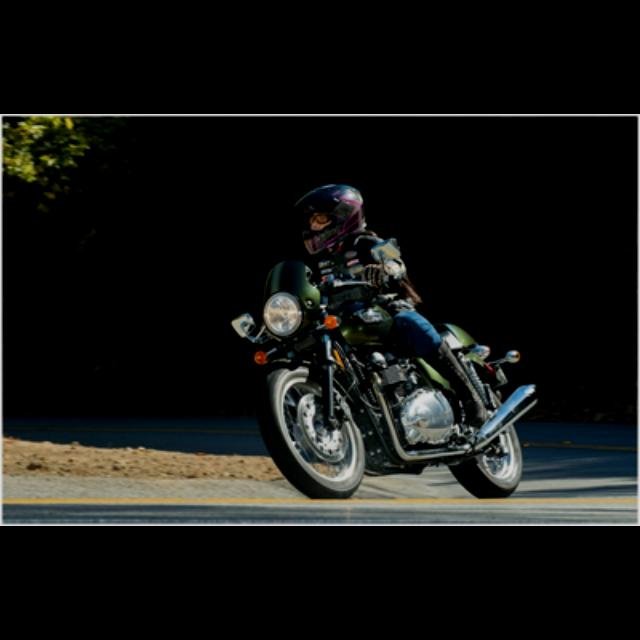With Helmet: (286, 181, 372, 253)
